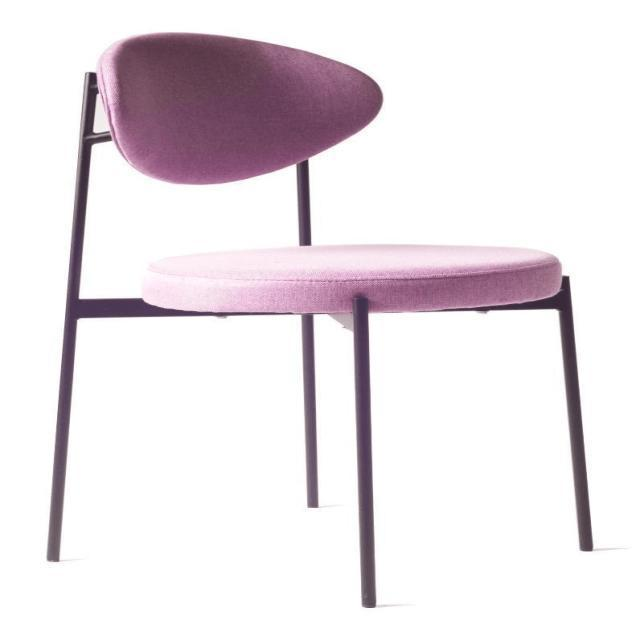chair: (38, 24, 600, 613), (59, 32, 572, 309)
